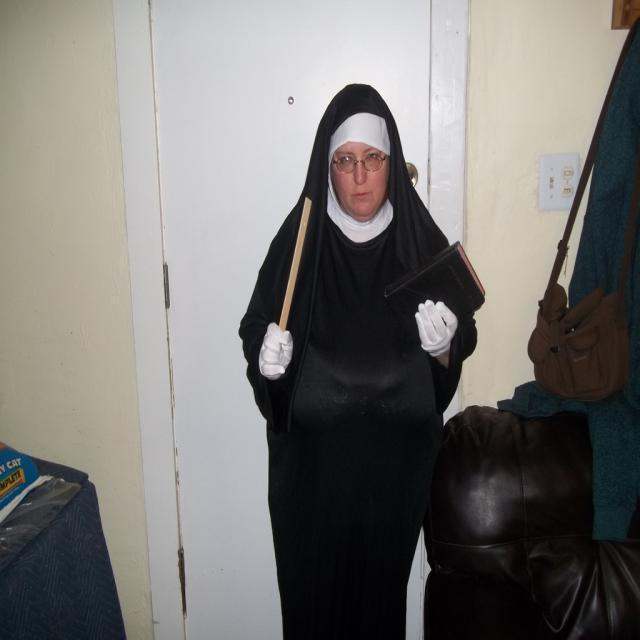closed-mouth: (351, 188, 373, 200)
